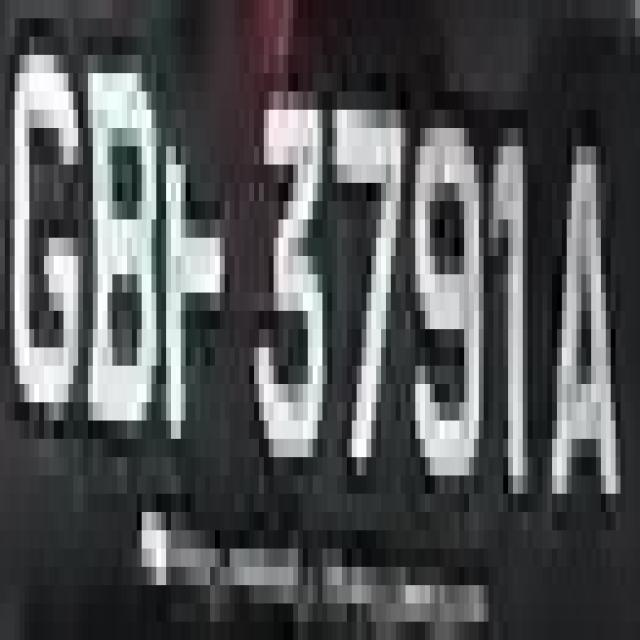1: (474, 147, 537, 530)
3: (245, 37, 328, 476)
7: (322, 110, 410, 512)
9: (401, 73, 494, 549)
A: (538, 91, 620, 548)
B: (73, 37, 166, 476)
G: (5, 55, 78, 457)
